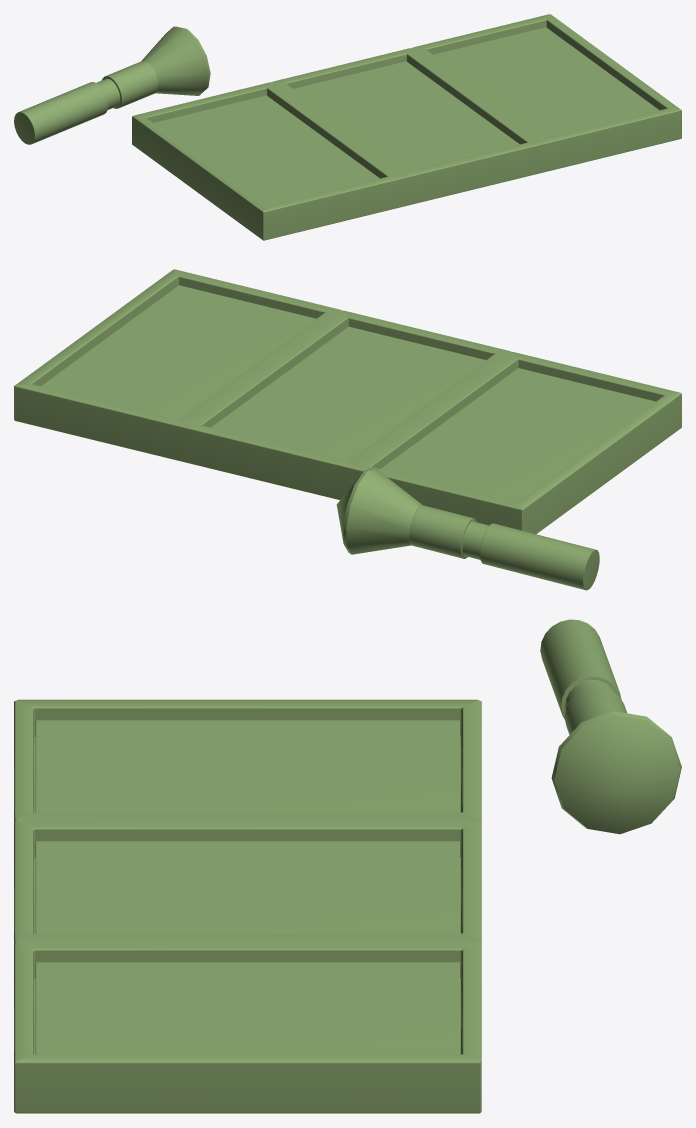
File: Make up Stuff Not Exploded.fbx
The picture shows the model from 3 angles, top to bottom: view 1: azimuth 30°, elevation 25°; view 2: azimuth 150°, elevation 25°; view 3: azimuth 270°, elevation 25°; orthographic projection. The views are drawn at different scales.
Parts seen in each view (by area): view 1: polySurface1, polySurface4, polySurface5, polySurface3, pCylinder1, pCylinder2; view 2: polySurface1, polySurface4, polySurface3, polySurface5, pCylinder1, pCylinder2; view 3: polySurface1, polySurface5, polySurface4, polySurface3, pCylinder2, pCylinder1.
Part boxes in pixels (x1,y1,x2,y2): polySurface1: (132, 14, 681, 240); polySurface4: (433, 27, 659, 137); polySurface5: (293, 61, 519, 171); polySurface3: (153, 95, 379, 205); pCylinder1: (14, 61, 158, 144); pCylinder2: (141, 26, 210, 95); polySurface1: (14, 269, 681, 534); polySurface4: (41, 285, 316, 419); polySurface3: (381, 368, 655, 502); polySurface5: (211, 326, 485, 460); pCylinder1: (409, 505, 599, 590); pCylinder2: (336, 468, 422, 554); polySurface1: (14, 699, 481, 1113); polySurface5: (35, 841, 459, 933); polySurface4: (35, 962, 459, 1054); polySurface3: (35, 720, 459, 812); pCylinder2: (551, 711, 681, 834); pCylinder1: (540, 619, 626, 734).
Bounding box in the file's own units: 319 × 40.56 × 207.
